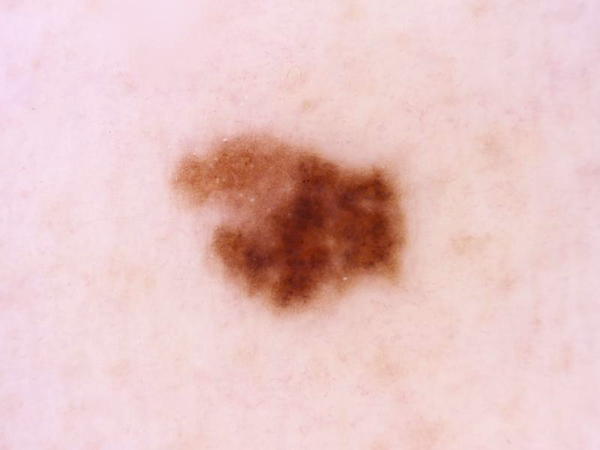Detected Lesion: (169, 127, 410, 314)
